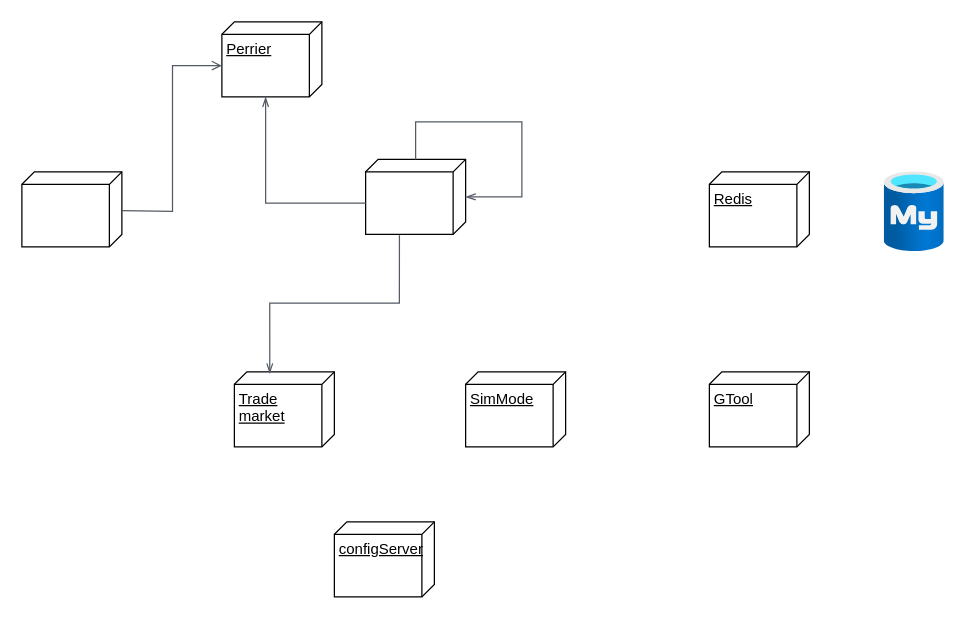
The diagram is 966 pixels wide and 619 high, and some of its shapes have lost their labels. Here are the shapes that lost their labels. From the top down, the centre of each, then its label:
At (x=71, y=209): "Relay".
At (x=415, y=196): "Game Server(*)".
